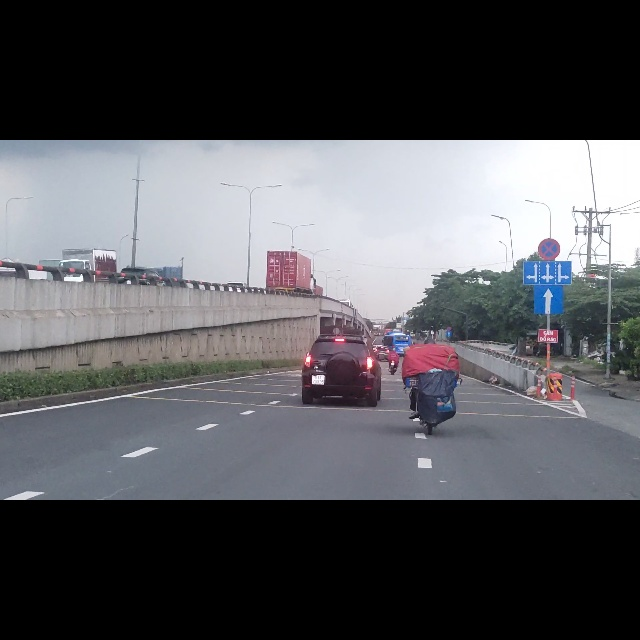bien_cam: (534, 258, 564, 310), (537, 174, 561, 213)
